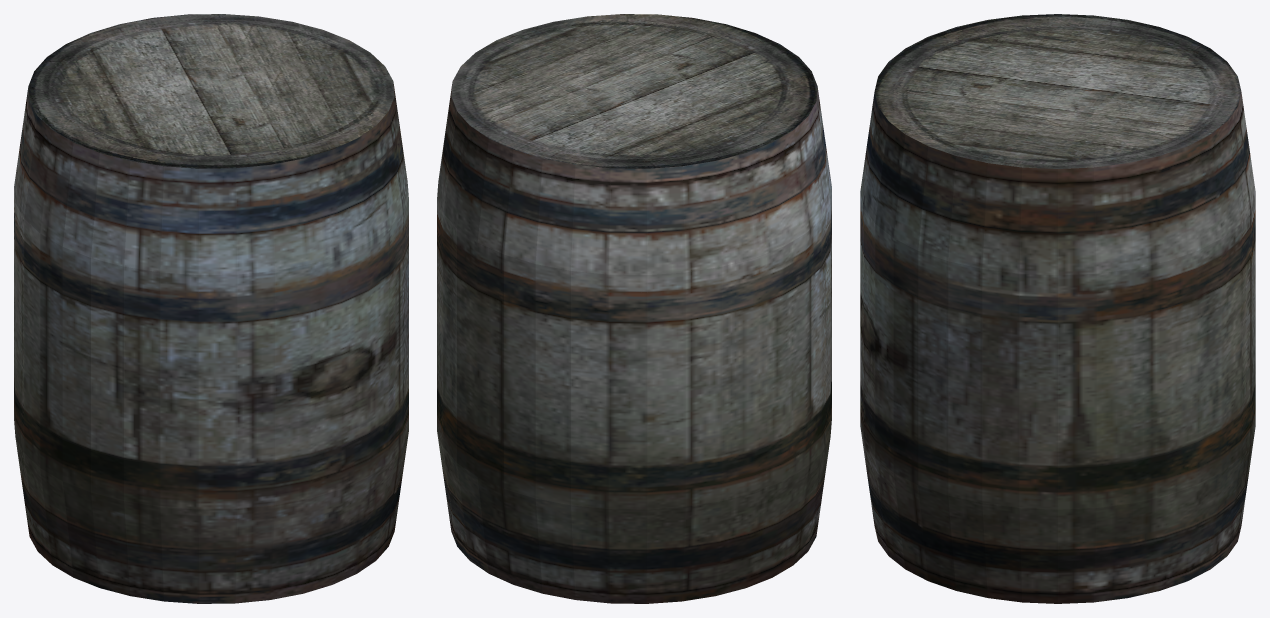
The model's file is barrel.dae.
3 renders of one model, left to right at view 1: azimuth 30°, elevation 25°; view 2: azimuth 150°, elevation 25°; view 3: azimuth 270°, elevation 25°, orthographic.
Parts seen in each view (by area): view 1: Cylinder; view 2: Cylinder; view 3: Cylinder.
Part boxes in pixels (x1,y1,x2,y2): Cylinder: (14,14,408,603); Cylinder: (437,14,831,603); Cylinder: (860,14,1255,603).
Size of the model in its own units: 2 by 2 by 2.43.
1 material, 1 textured.
